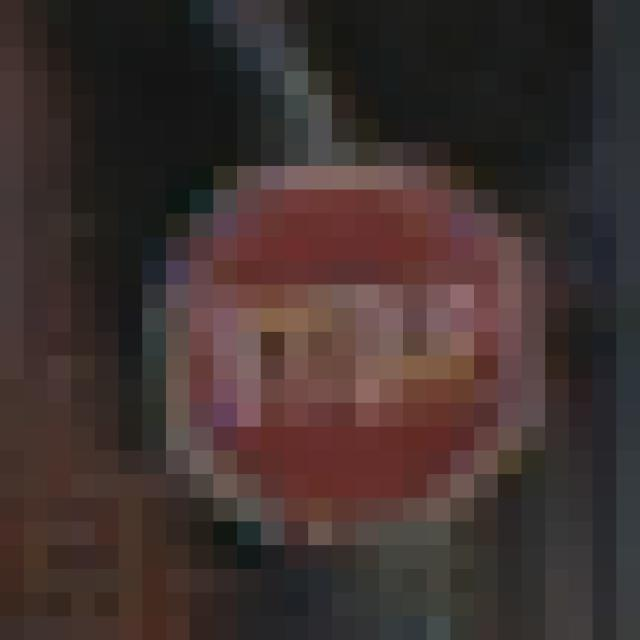STOP: (143, 143, 523, 523)
